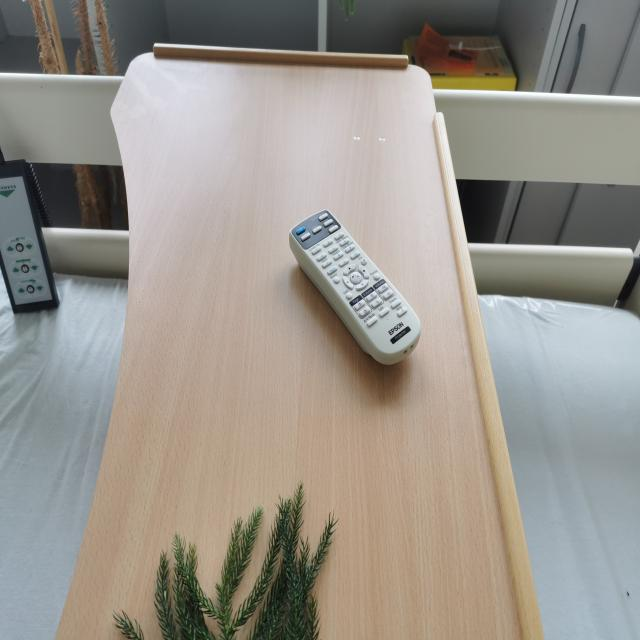remote: (287, 205, 423, 367)
